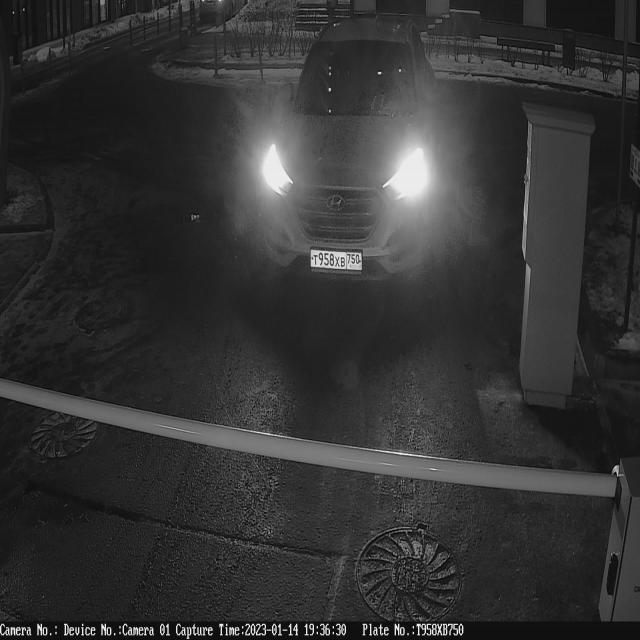car-plate-numbers: (308, 242, 367, 281)
